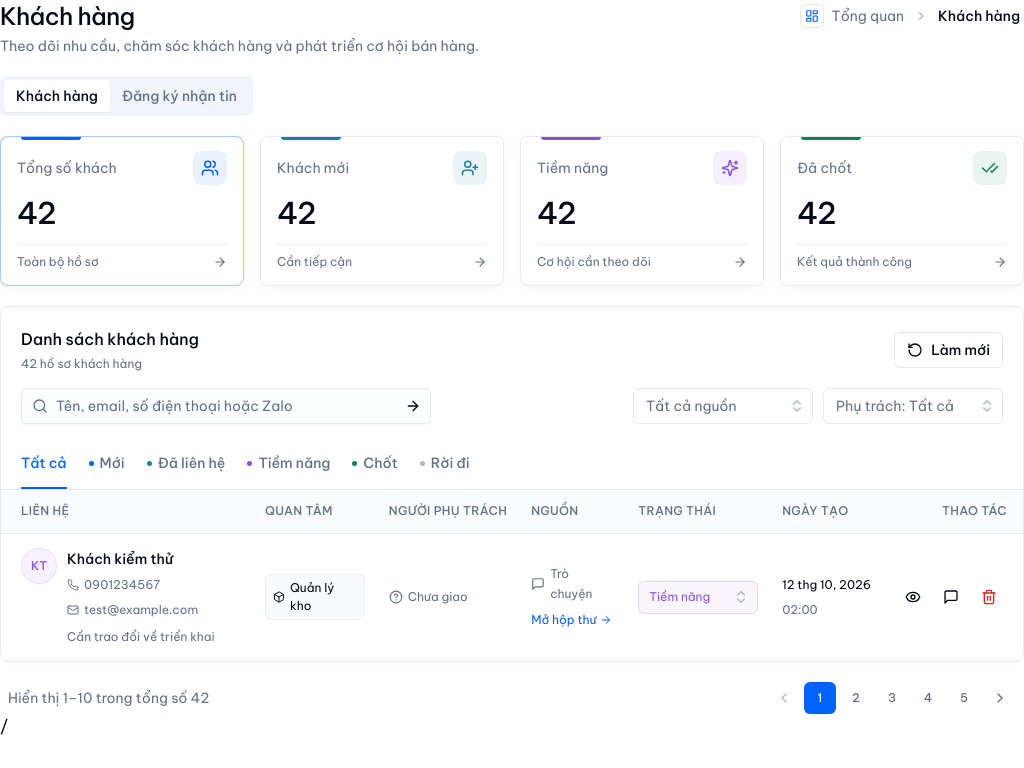
CRM lead workspace › keeps deletion behind confirmation and does not delete on cancel
What coordinates should you click on to do the following:
click the button named "Xoá"
I would click on:
 (989, 597)
Its box is [971,579,1007,615].
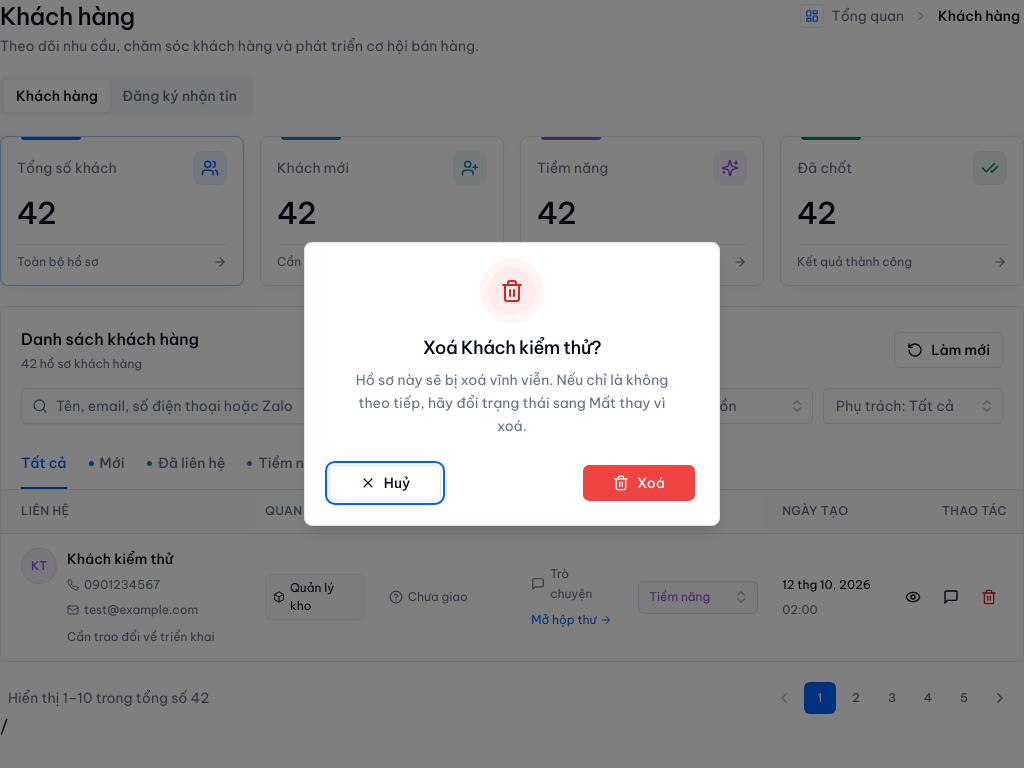
What coordinates should you click on to do the following:
click the button "Huỷ"
I would click on:
 (385, 483)
Its box is [329,465,441,501].
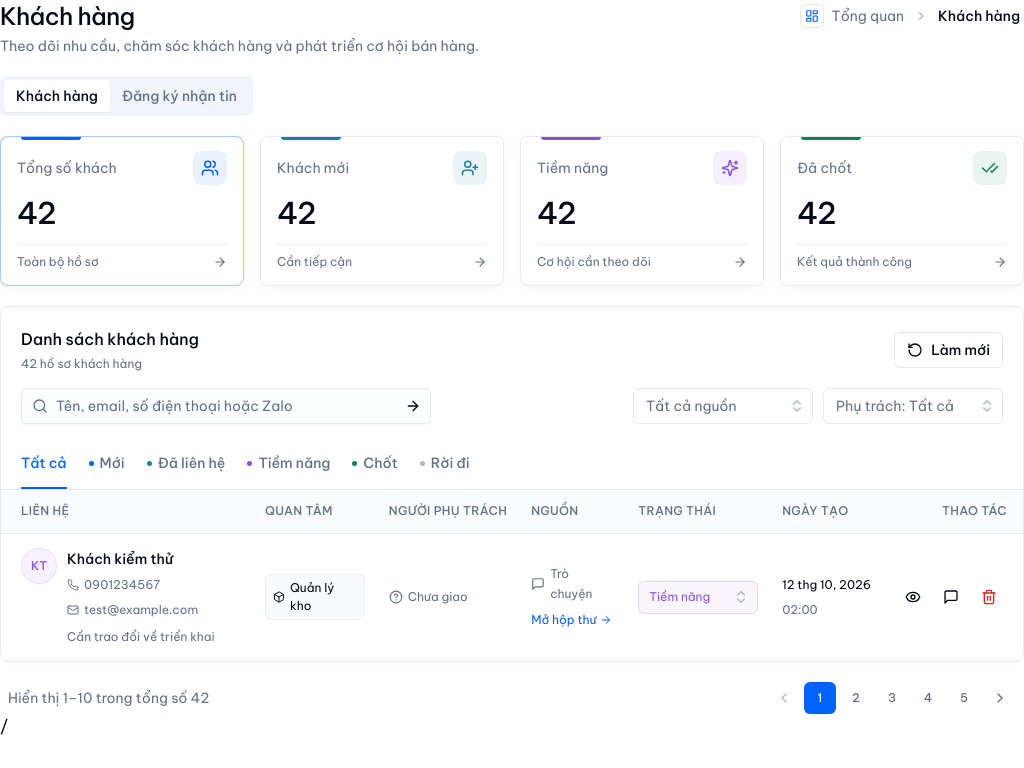
expect the dialog is gone: met
